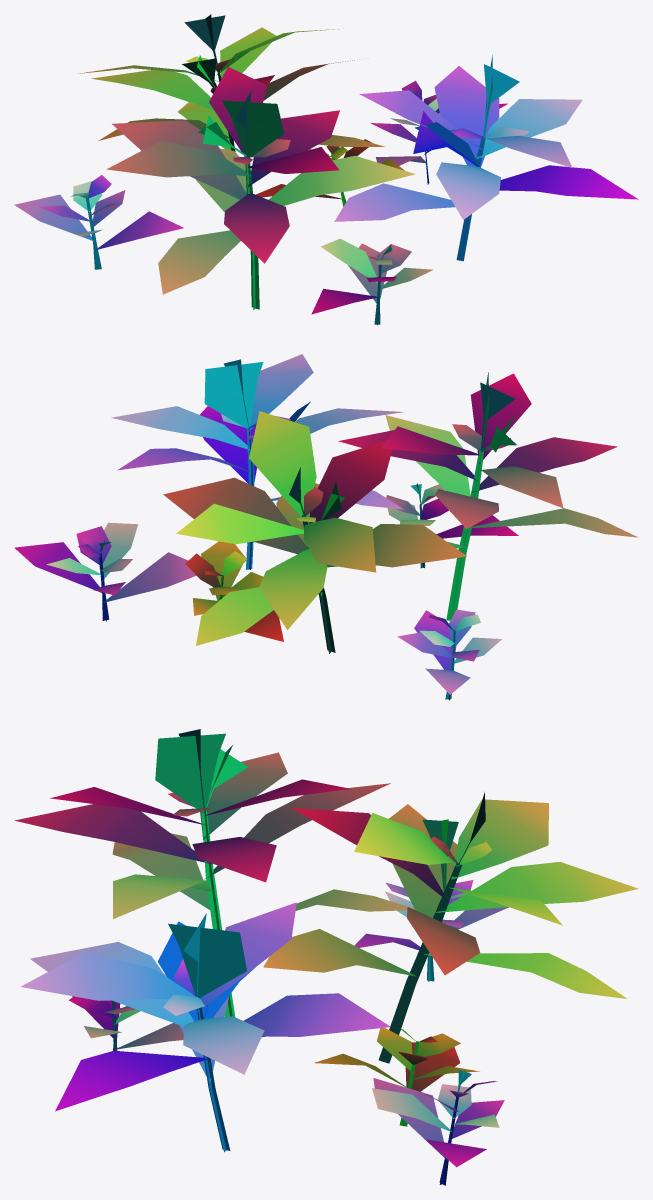
File: xefmcgrqx_VarH_LOD1.fbx
3 renders of one model, top to bottom at view 1: azimuth 30°, elevation 25°; view 2: azimuth 150°, elevation 25°; view 3: azimuth 270°, elevation 25°, orthographic. The views are drawn at different scales.
Visible parts, largest first — view 1: _j97l_VarH_LOD4; view 2: _j97l_VarH_LOD4; view 3: _j97l_VarH_LOD4.
Boxes of the visible parts, x1,y1,x2,y2 form: _j97l_VarH_LOD4: [14, 14, 638, 325]; _j97l_VarH_LOD4: [14, 354, 638, 700]; _j97l_VarH_LOD4: [14, 729, 638, 1185].
Size of the model in its own units: 68.24 by 31.44 by 61.45.
